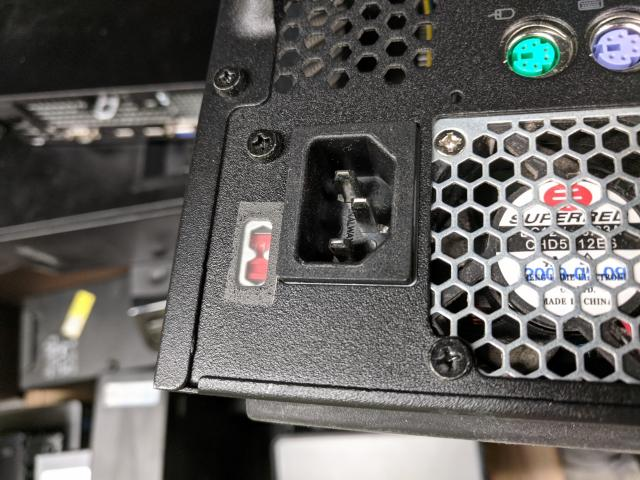CRS: (430, 337, 472, 378), (247, 128, 280, 161), (214, 66, 244, 94), (435, 129, 466, 156)
